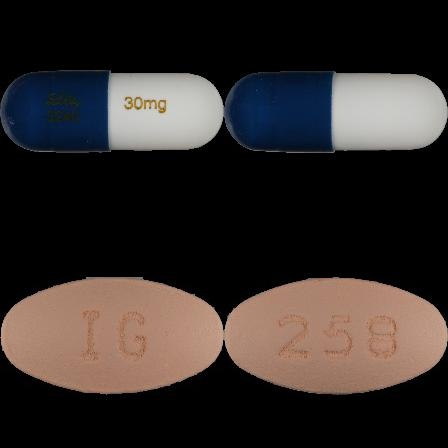42549-646: (0, 0, 224, 224)
